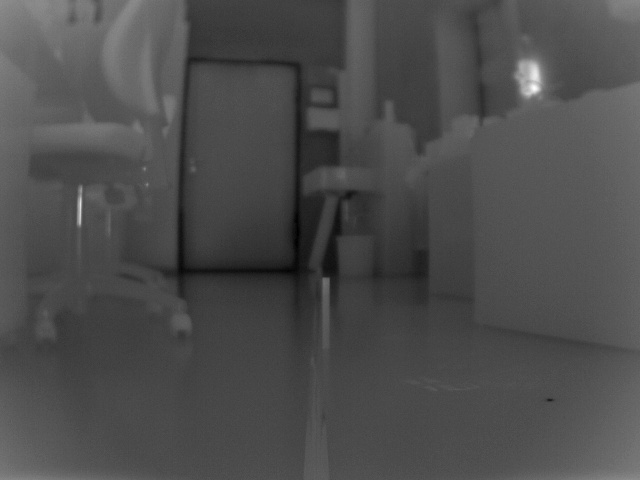aluminum profile: (320, 275, 332, 353)
